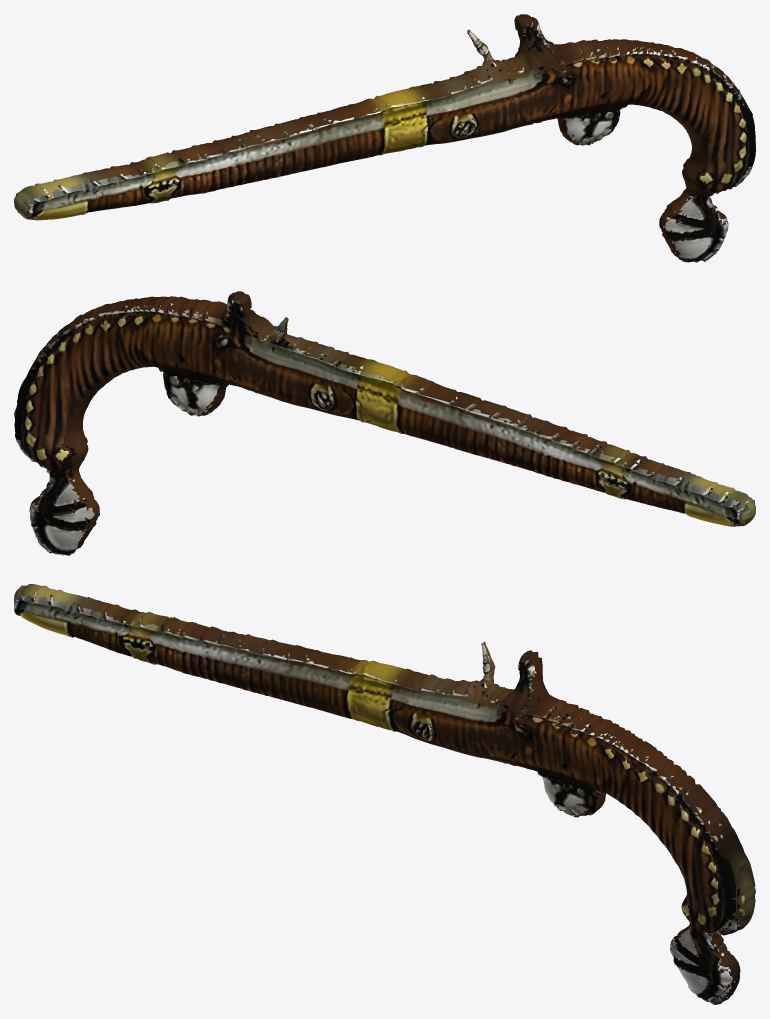
Rendered from kfl-2170.glb.
3 views of the same model, one above another, from view 1: azimuth 30°, elevation 25°; view 2: azimuth 150°, elevation 25°; view 3: azimuth 330°, elevation 25° (orthographic). The views are drawn at different scales.
Parts seen in each view (by area): view 1: kfl-2170; view 2: kfl-2170; view 3: kfl-2170.
Part boxes in pixels (x1=…): kfl-2170: x1=14, y1=14, x2=755, y2=262; kfl-2170: x1=14, y1=291, x2=755, y2=555; kfl-2170: x1=14, y1=584, x2=755, y2=1004.
Size of the model in its own units: 0.9918 by 0.3814 by 0.116.
4 materials, 4 textured.
